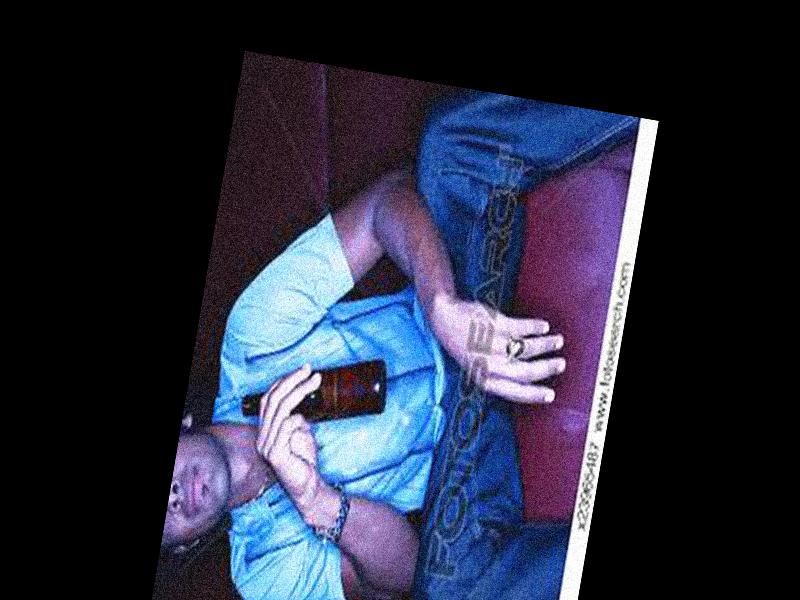Beer: (239, 335, 391, 439)
